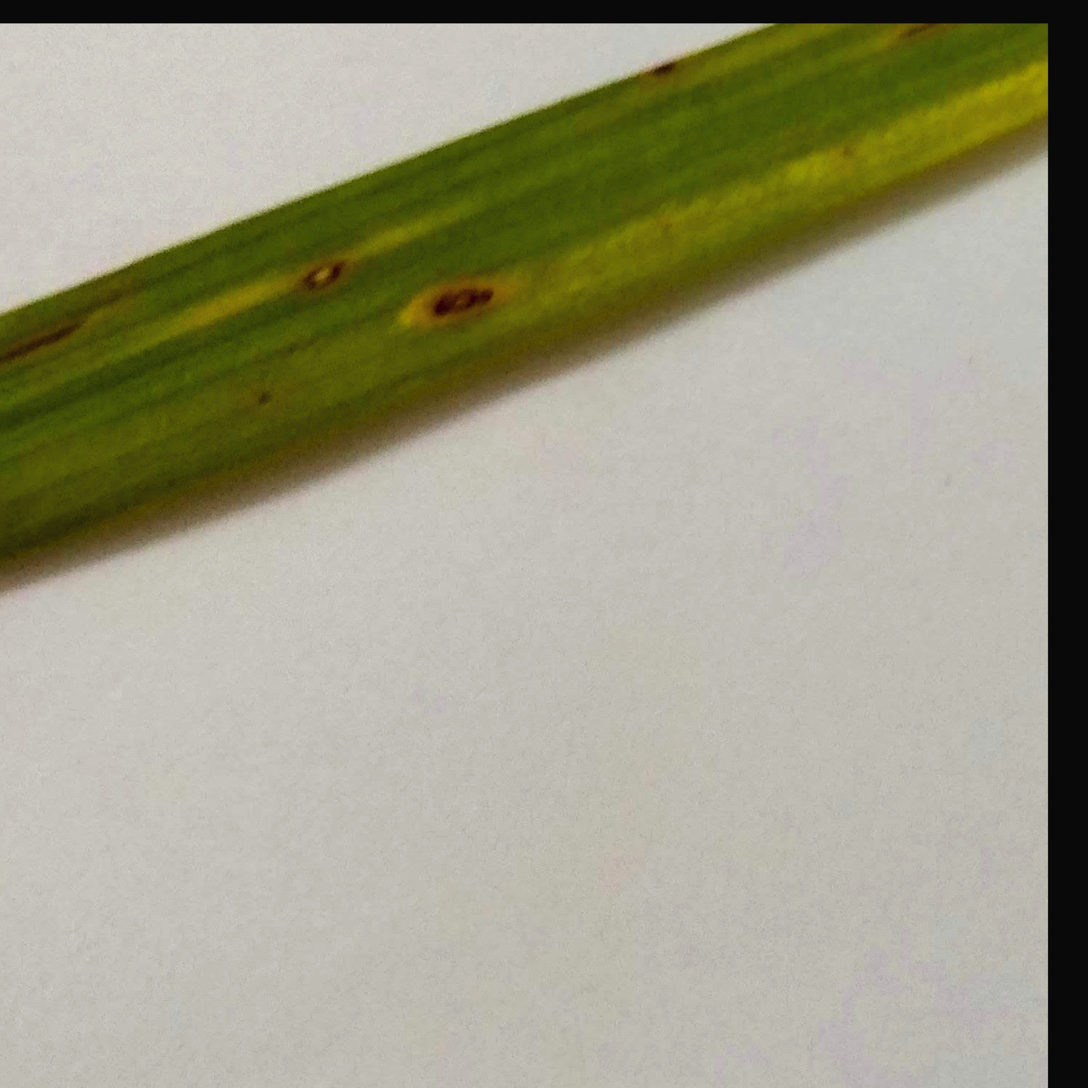Brown_Spot: (387, 263, 523, 327), (273, 242, 357, 289)
